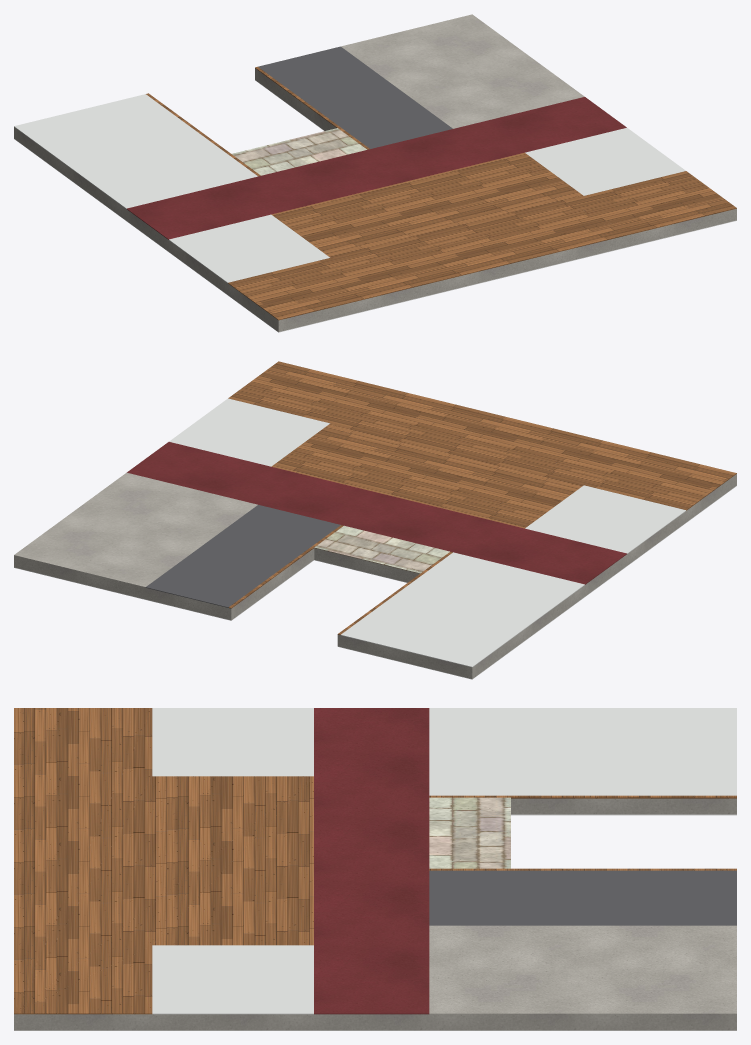
Rendered from slab_up.glb.
3 views of the same model, one above another, from view 1: azimuth 30°, elevation 25°; view 2: azimuth 150°, elevation 25°; view 3: azimuth 270°, elevation 25° (orthographic). The views are drawn at different scales.
Visible parts, largest first — view 1: slab_up_parquet, slab_up_tile, slab_up_concrete, slab_up_carpet, slab_up_dark, slab_up_stone, slab_up_ceil; view 2: slab_up_parquet, slab_up_tile, slab_up_concrete, slab_up_carpet, slab_up_dark, slab_up_stone, slab_up_ceil; view 3: slab_up_parquet, slab_up_tile, slab_up_concrete, slab_up_carpet, slab_up_dark, slab_up_stone, slab_up_ceil.
Part boxes in pixels (x1,y1,x2,y2): slab_up_parquet: [146, 66, 736, 320]; slab_up_tile: [14, 94, 685, 282]; slab_up_concrete: [14, 14, 736, 331]; slab_up_carpet: [127, 97, 626, 239]; slab_up_dark: [258, 46, 452, 148]; slab_up_stone: [232, 128, 366, 175]; slab_up_ceil: [14, 80, 736, 332]; slab_up_parquet: [228, 361, 736, 635]; slab_up_tile: [169, 398, 686, 667]; slab_up_concrete: [14, 472, 736, 678]; slab_up_carpet: [127, 442, 626, 584]; slab_up_dark: [145, 504, 340, 607]; slab_up_stone: [314, 525, 449, 573]; slab_up_ceil: [14, 485, 736, 679]; slab_up_parquet: [14, 708, 736, 1014]; slab_up_tile: [152, 708, 736, 1014]; slab_up_concrete: [14, 798, 736, 1030]; slab_up_carpet: [314, 708, 429, 1014]; slab_up_dark: [429, 870, 736, 925]; slab_up_stone: [429, 797, 510, 868]; slab_up_ceil: [14, 814, 736, 1030].
Size of the model in its own units: 9.4 by 0.25 by 9.4.
Materials: 7 (4 with a texture image).
